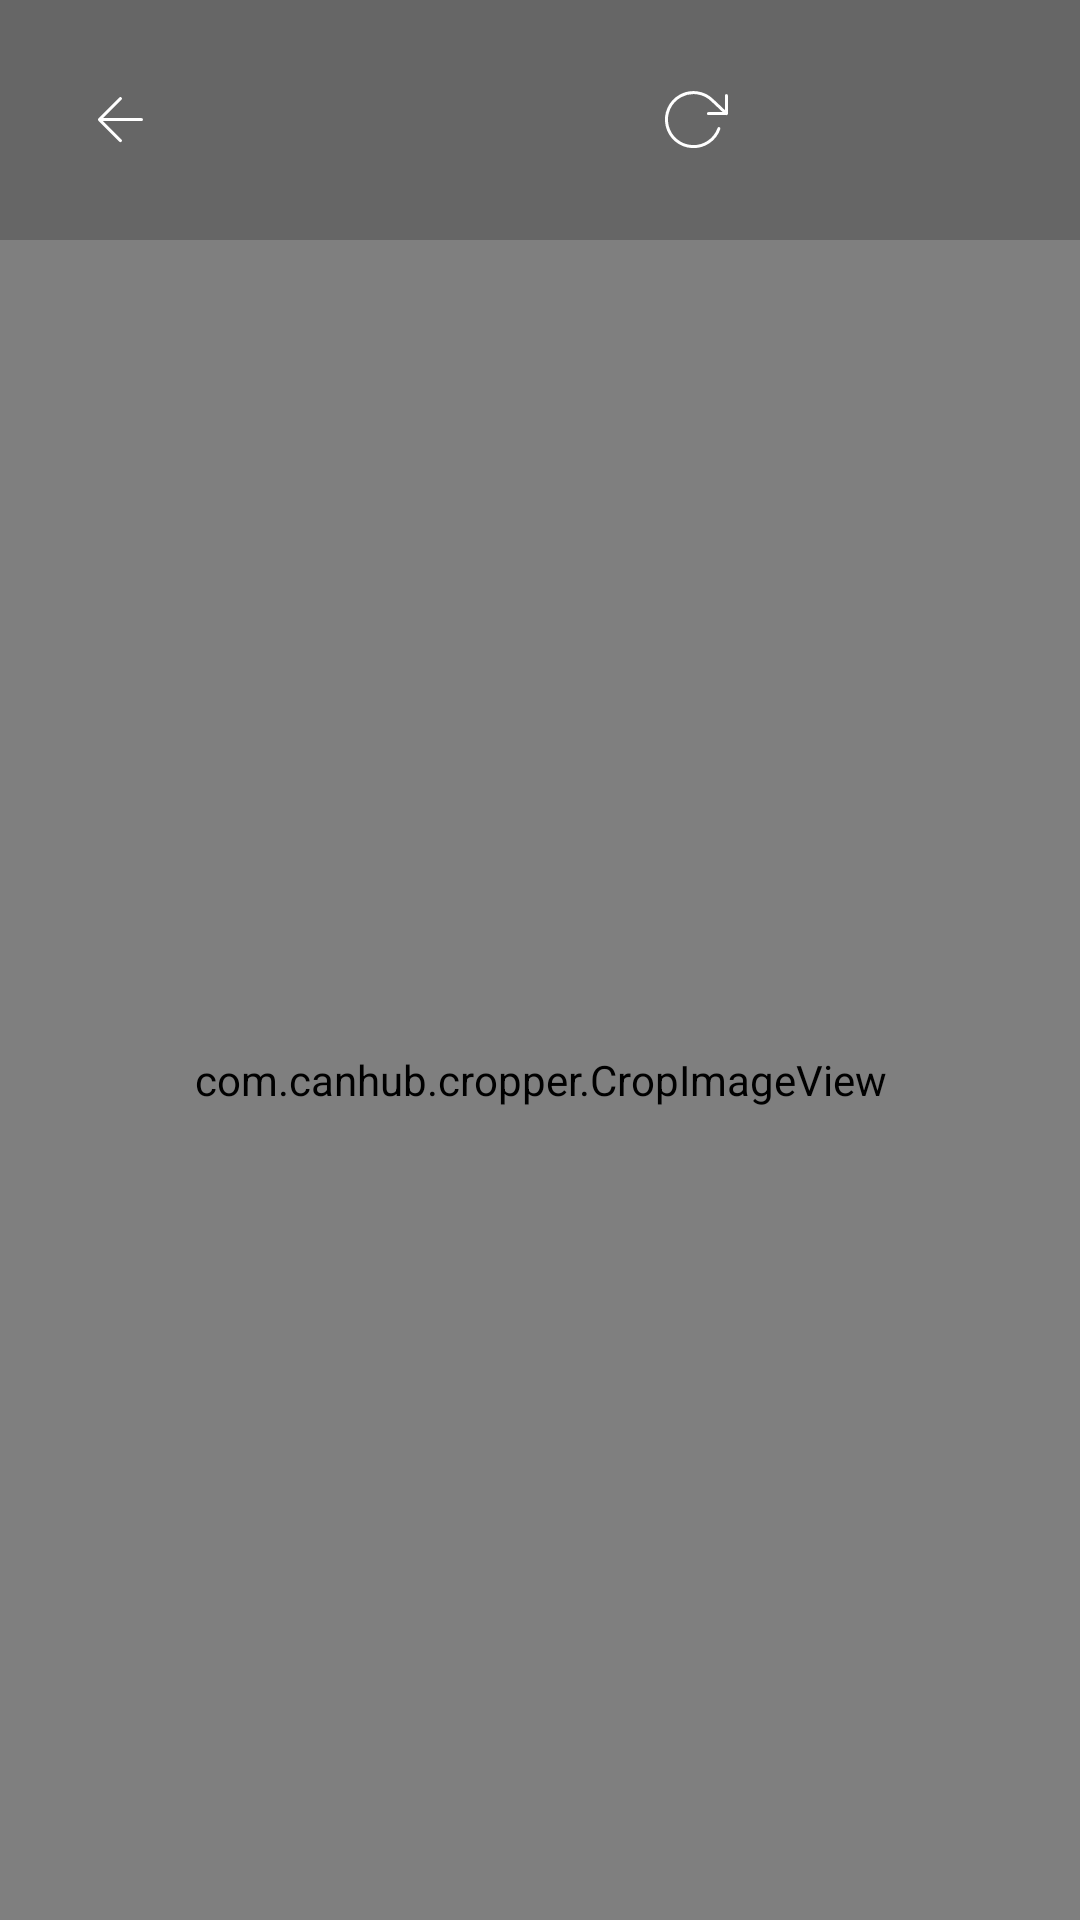

Where to tap for icons on this 1080w x 1920h app screen, as (x=x, y=y):
Rotate Button: (x=696, y=119)
